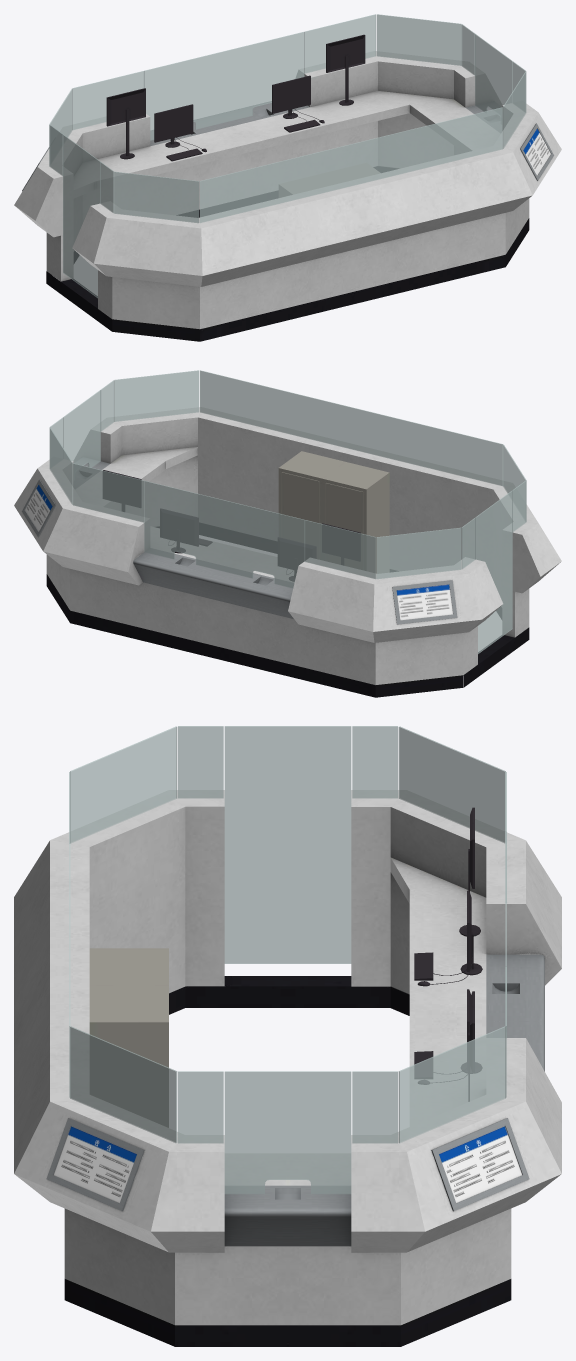
3 renders of one model, top to bottom at view 1: azimuth 30°, elevation 25°; view 2: azimuth 150°, elevation 25°; view 3: azimuth 270°, elevation 25°, orthographic. The views are drawn at different scales.
Parts seen in each view (by area): view 1: 服务台; view 2: 服务台; view 3: 服务台.
Boxes of the visible parts, <box> form: 服务台: <box>14,14,561,341</box>; 服务台: <box>14,370,561,697</box>; 服务台: <box>14,726,561,1346</box>.
Size of the model in its own units: 5.85 by 1.9 by 3.45.
Materials: 3 (3 with a texture image).
